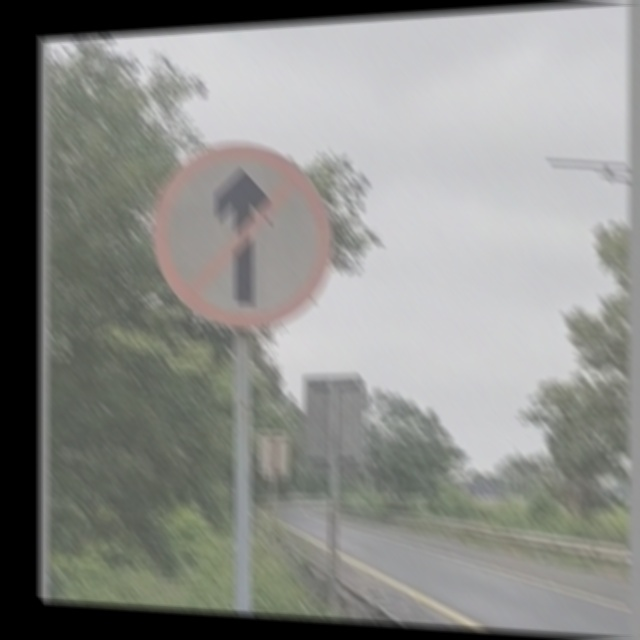No_Entry: (152, 143, 331, 327)
